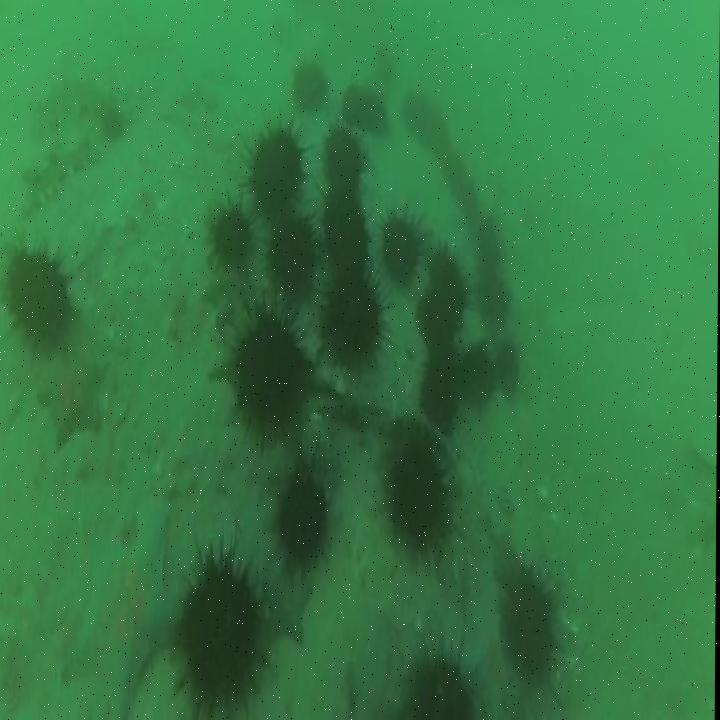echinus: (166, 523, 277, 718), (221, 299, 319, 462), (384, 425, 464, 572), (499, 550, 570, 700), (0, 235, 84, 357), (268, 455, 340, 592), (312, 268, 394, 382), (237, 106, 318, 219), (399, 638, 479, 720), (310, 185, 381, 277), (261, 199, 323, 302), (202, 182, 265, 278), (375, 201, 435, 290), (417, 343, 466, 448), (426, 238, 475, 326), (457, 331, 504, 414), (322, 122, 371, 186), (340, 77, 391, 135), (415, 293, 462, 352), (493, 329, 527, 407), (467, 214, 507, 278), (288, 50, 330, 106), (477, 268, 515, 323)
holothurian: (18, 135, 96, 224), (26, 80, 107, 126)
starfish: (62, 507, 186, 718), (38, 346, 110, 452), (265, 558, 315, 651), (460, 602, 503, 684)
